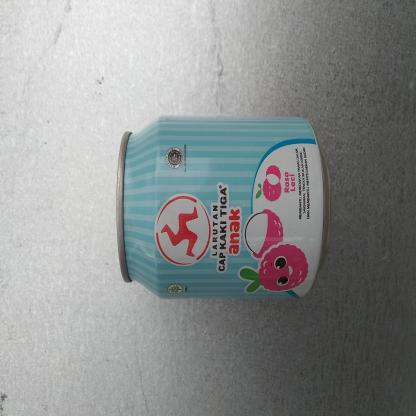mouse: (111, 107, 335, 306)
